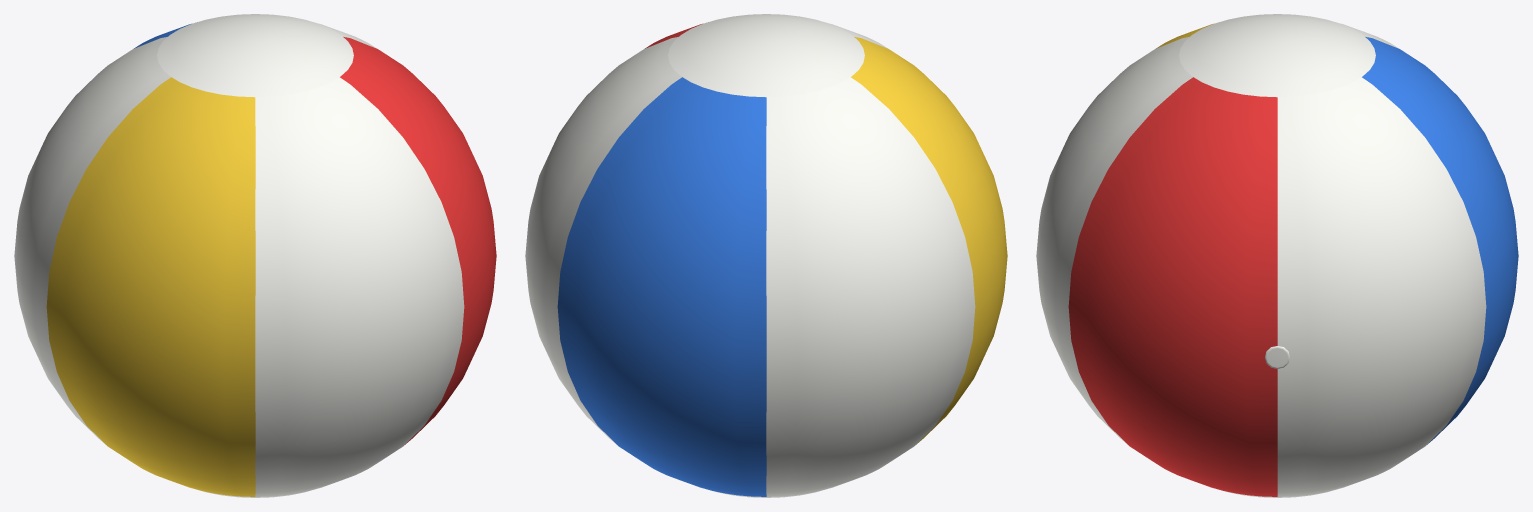
Rendered from TanksBall.obj.
3 views of the same model, side by side, from view 1: azimuth 30°, elevation 25°; view 2: azimuth 150°, elevation 25°; view 3: azimuth 270°, elevation 25° (orthographic).
Visible parts, largest first — view 1: White, Yellow, Red; view 2: White, Blue, Yellow; view 3: White, Red, Blue.
Boxes of the visible parts, bbox=[...] form: White: bbox=[14, 14, 464, 497]; Yellow: bbox=[46, 77, 255, 496]; Red: bbox=[340, 37, 496, 444]; White: bbox=[525, 14, 975, 497]; Blue: bbox=[557, 77, 766, 496]; Yellow: bbox=[851, 37, 1007, 444]; White: bbox=[1036, 14, 1486, 497]; Red: bbox=[1068, 77, 1277, 496]; Blue: bbox=[1362, 37, 1518, 444].
Size of the model in its own units: 16 by 16.06 by 16.
